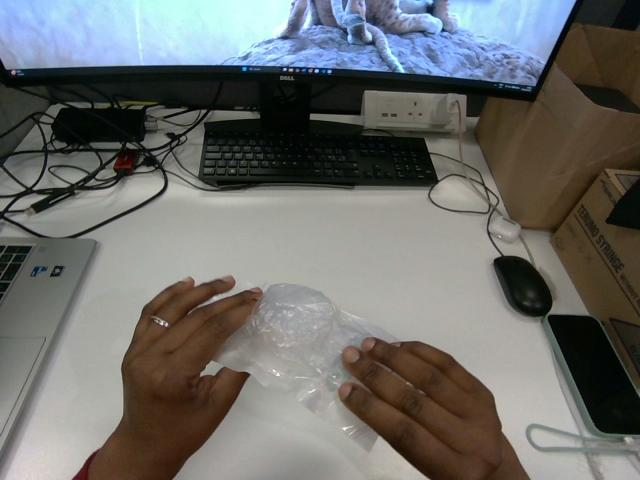gallipot: (215, 284, 394, 449)
